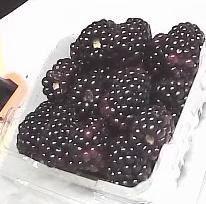berry: (102, 63, 155, 130), (38, 100, 81, 167), (130, 106, 176, 159), (69, 111, 109, 171), (107, 134, 152, 187), (164, 22, 205, 79), (17, 100, 57, 155), (153, 73, 195, 122), (109, 18, 152, 65), (42, 59, 82, 105), (72, 64, 105, 117), (80, 20, 119, 59), (144, 32, 167, 74), (70, 39, 92, 70)
